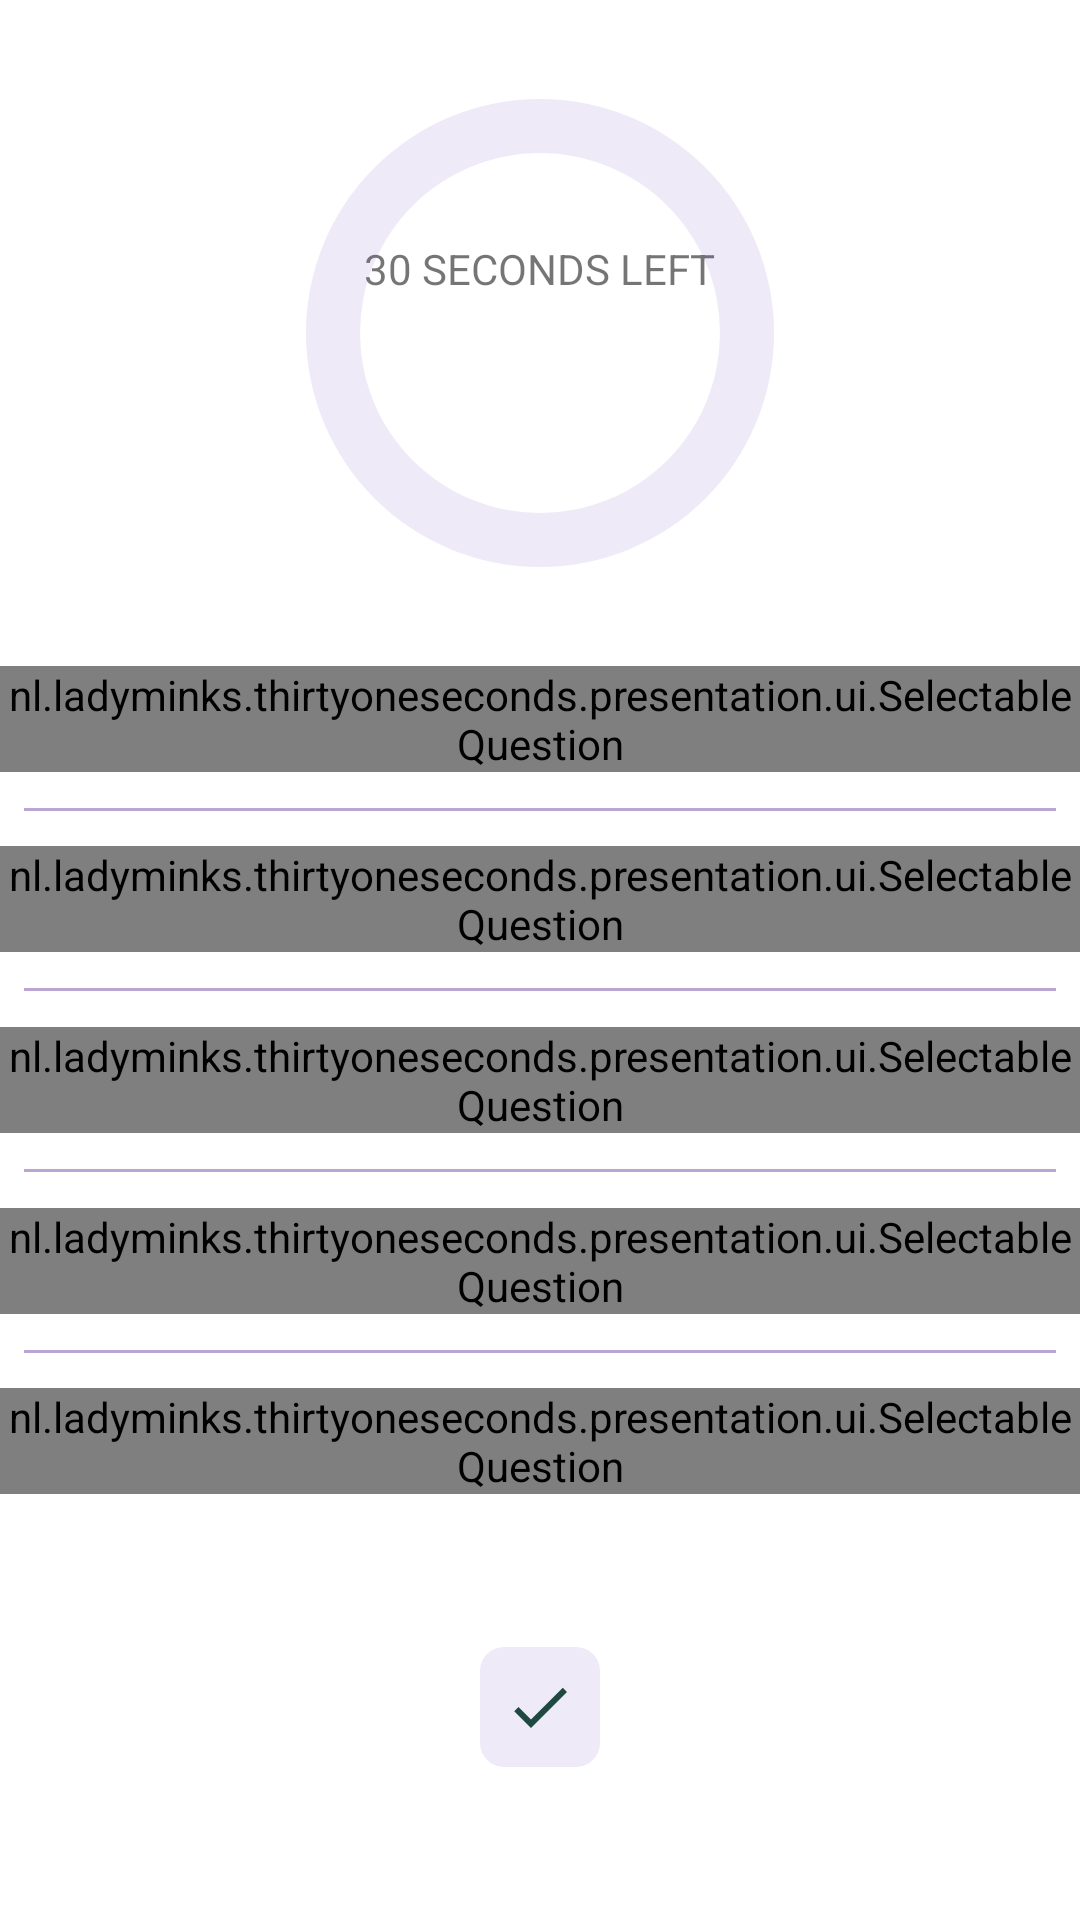

Icon bounding boxes for this 1080*1920 phone screenshot, format (x1, y1, x2, y2):
check: (480, 1647, 600, 1767)
